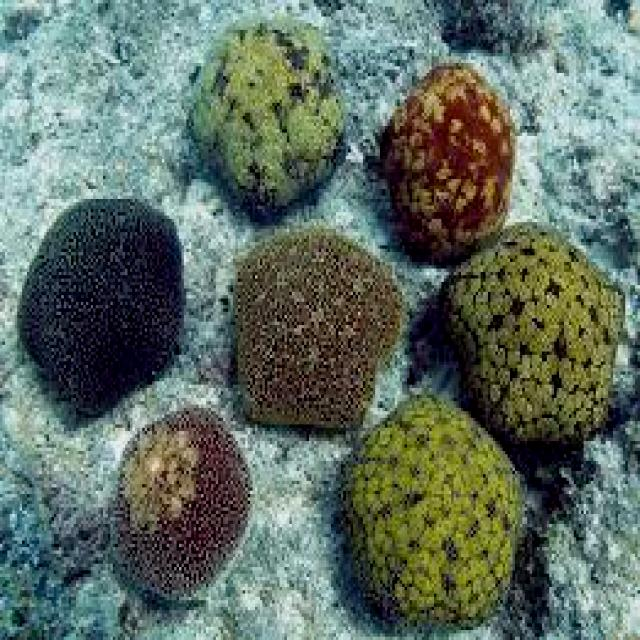Coral: (334, 392, 527, 633), (436, 217, 628, 448), (17, 199, 190, 417), (227, 225, 402, 430), (186, 23, 347, 221), (380, 56, 515, 266), (110, 404, 252, 602)
